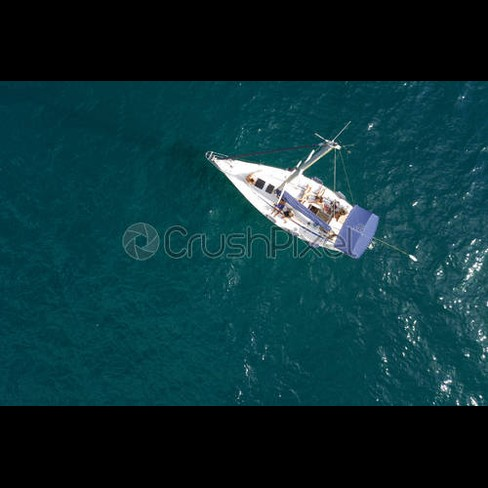boat: (189, 119, 388, 268)
